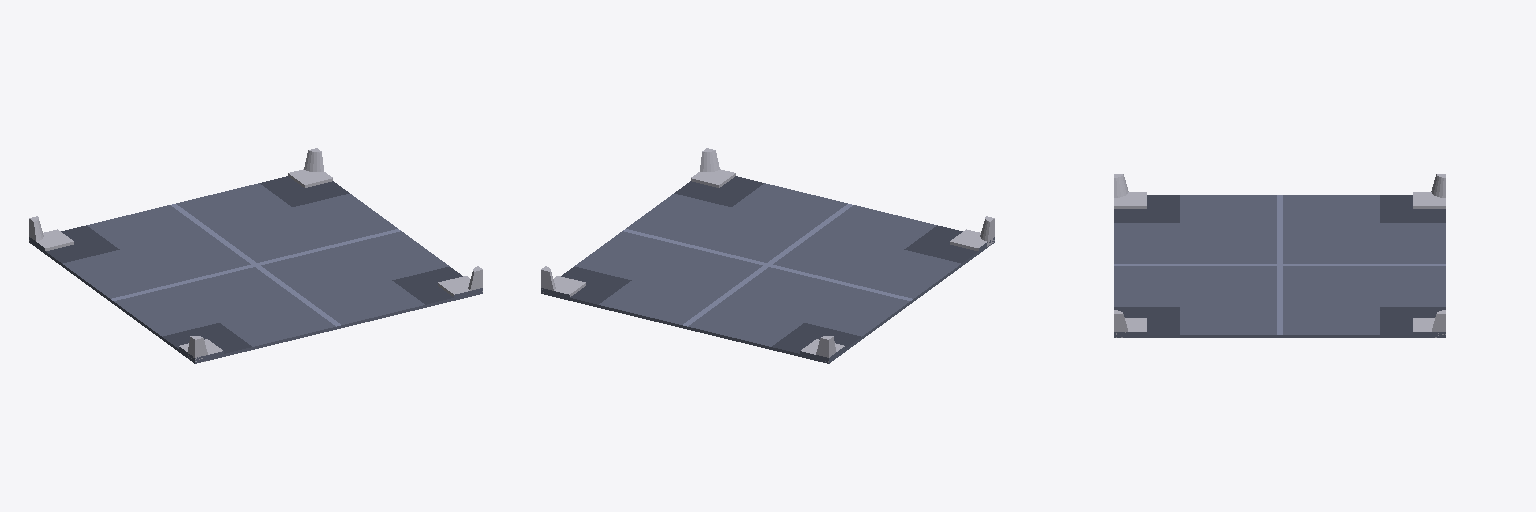
The model's file is road_4way.obj.
3 renders of one model, left to right at view 1: azimuth 30°, elevation 25°; view 2: azimuth 150°, elevation 25°; view 3: azimuth 270°, elevation 25°, orthographic.
Parts seen in each view (by area): view 1: road_4way, road_4wayBarrier; view 2: road_4way, road_4wayBarrier; view 3: road_4way, road_4wayBarrier.
Part boxes in pixels (x1,y1,x2,y2): road_4way: (29,169,482,363); road_4wayBarrier: (29,148,482,361); road_4way: (541,169,994,363); road_4wayBarrier: (541,148,994,362); road_4way: (1114,192,1445,337); road_4wayBarrier: (1114,174,1445,337).
Bounding box in the file's own units: 1 × 0.08 × 1.